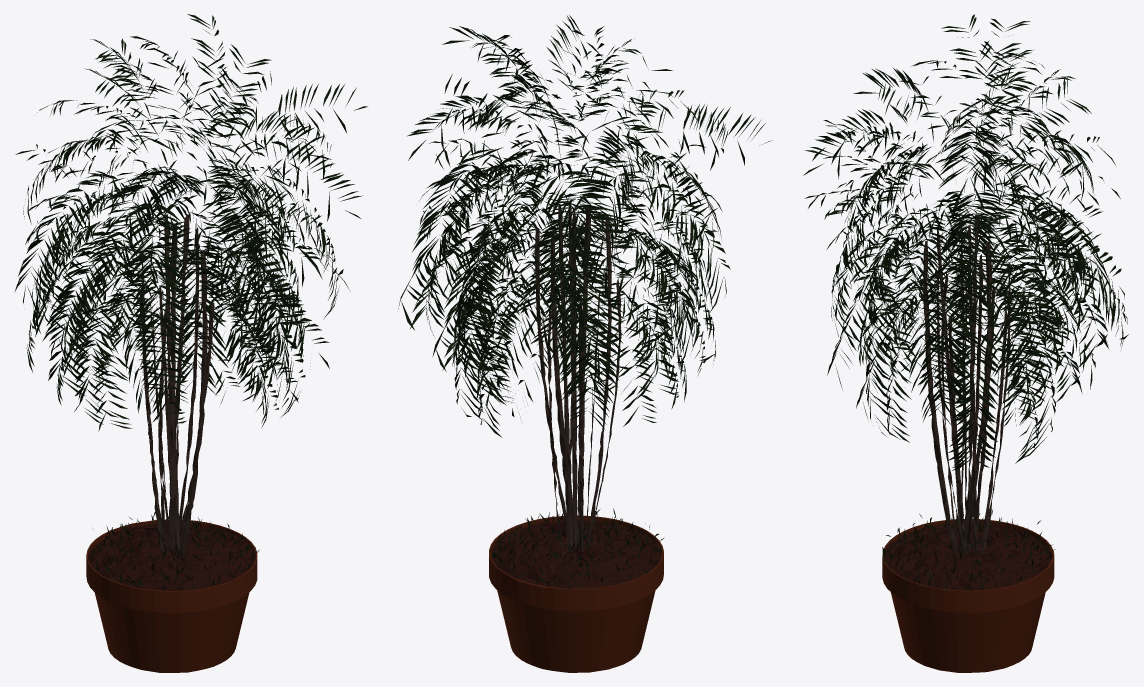
Rendered from PotPlant.FBX.
3 views of the same model, side by side, from view 1: azimuth 30°, elevation 25°; view 2: azimuth 150°, elevation 25°; view 3: azimuth 270°, elevation 25° (orthographic). The views are drawn at different scales.
Parts seen in each view (by area): view 1: sub02, Arch41_004, equipment1, Arch41_001, Arch41_002; view 2: sub02, Arch41_004, equipment1, Arch41_001, Arch41_002; view 3: sub02, Arch41_004, equipment1, Arch41_001, Arch41_002.
Boxes of the visible parts, <box> form: sub02: <box>14,14,367,431</box>; Arch41_004: <box>86,519,257,672</box>; equipment1: <box>140,214,214,555</box>; Arch41_001: <box>88,523,255,590</box>; Arch41_002: <box>86,512,259,590</box>; sub02: <box>398,15,772,437</box>; Arch41_004: <box>489,515,663,672</box>; equipment1: <box>535,202,621,552</box>; Arch41_001: <box>490,519,661,588</box>; Arch41_002: <box>491,508,664,588</box>; sub02: <box>803,14,1128,470</box>; Arch41_004: <box>882,519,1054,672</box>; equipment1: <box>923,214,1010,556</box>; Arch41_001: <box>884,522,1051,590</box>; Arch41_002: <box>882,509,1055,589</box>.
Size of the model in its own units: 53.78 by 100 by 49.04.
